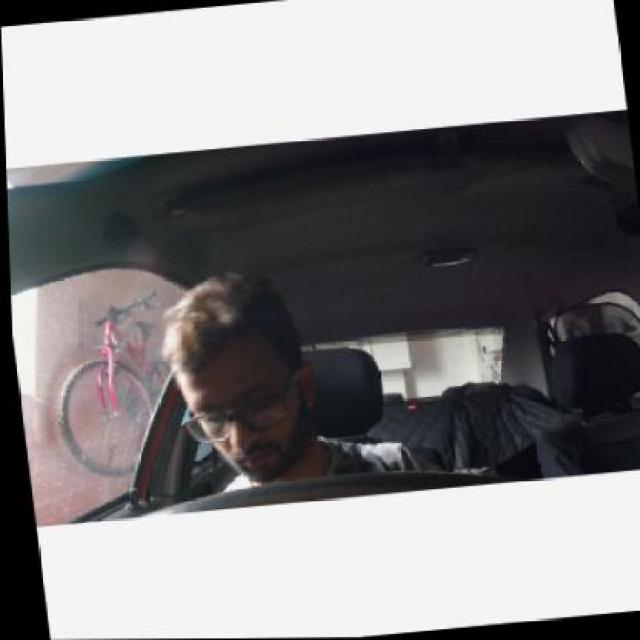drowsy: (151, 276, 322, 488)
